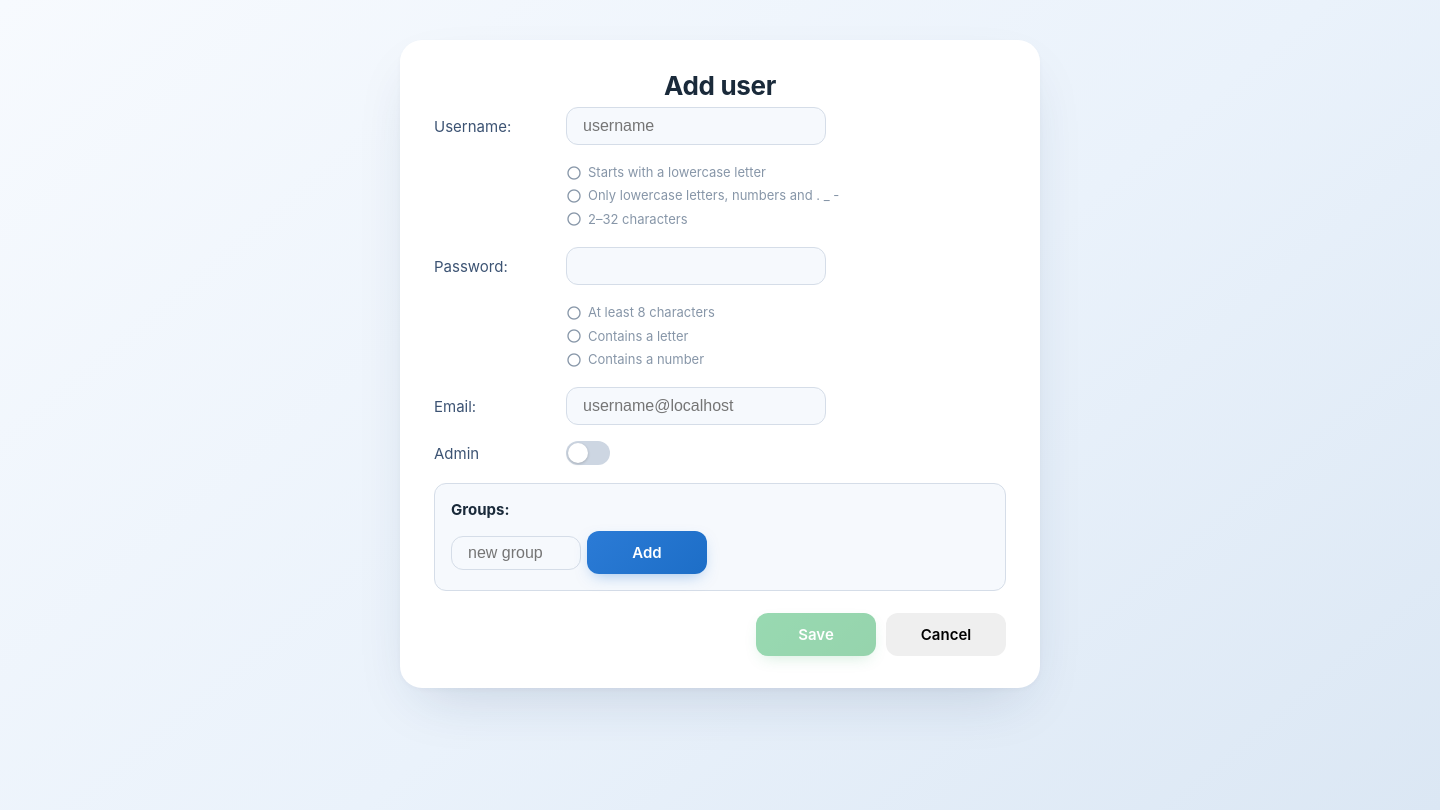
Test: create: inline new group is created and auto-selected
Type "team" into the field with id "new_group" at [516, 553], box [451,536,581,570]
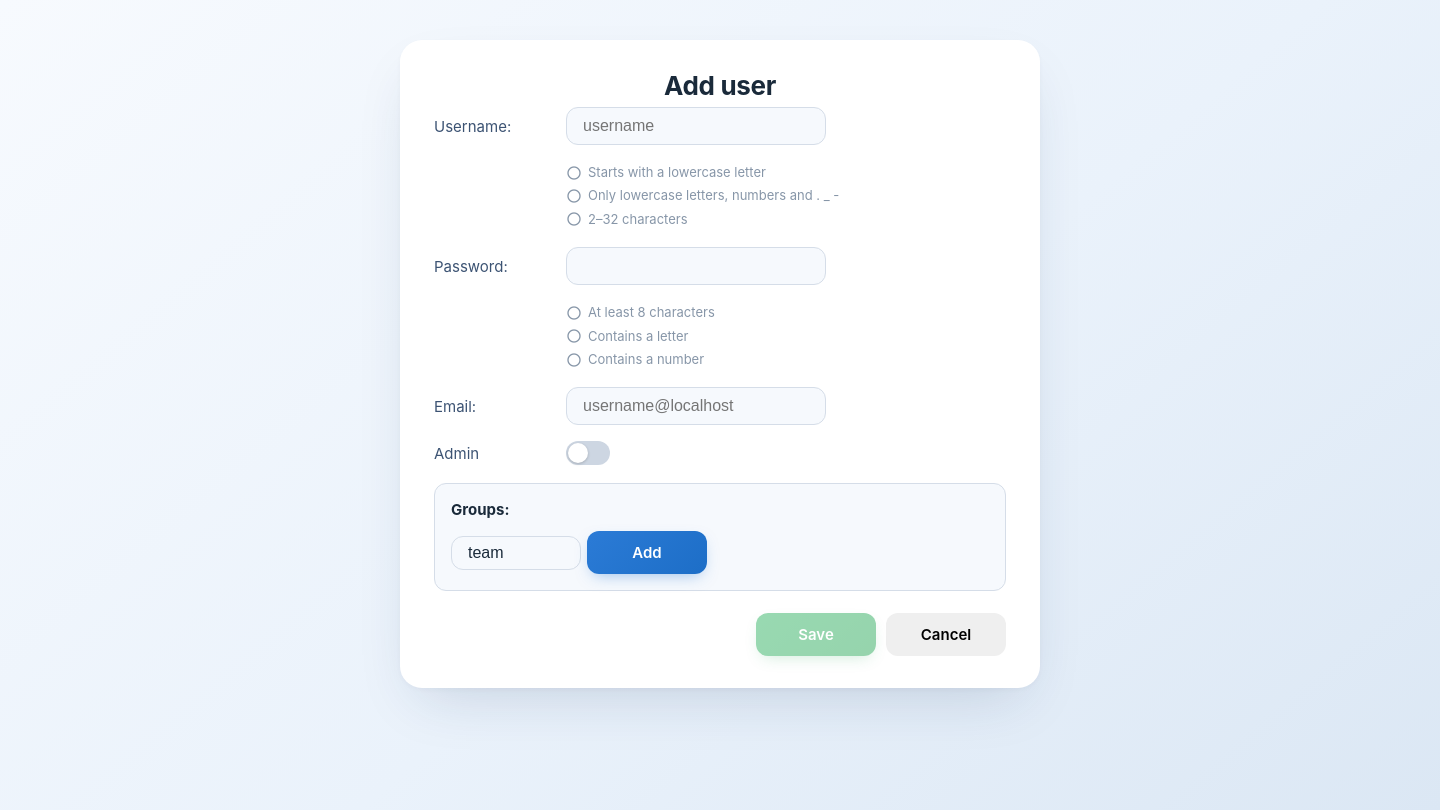
Click the button with test id "group-create" at [647, 553], box [587,531,707,574]
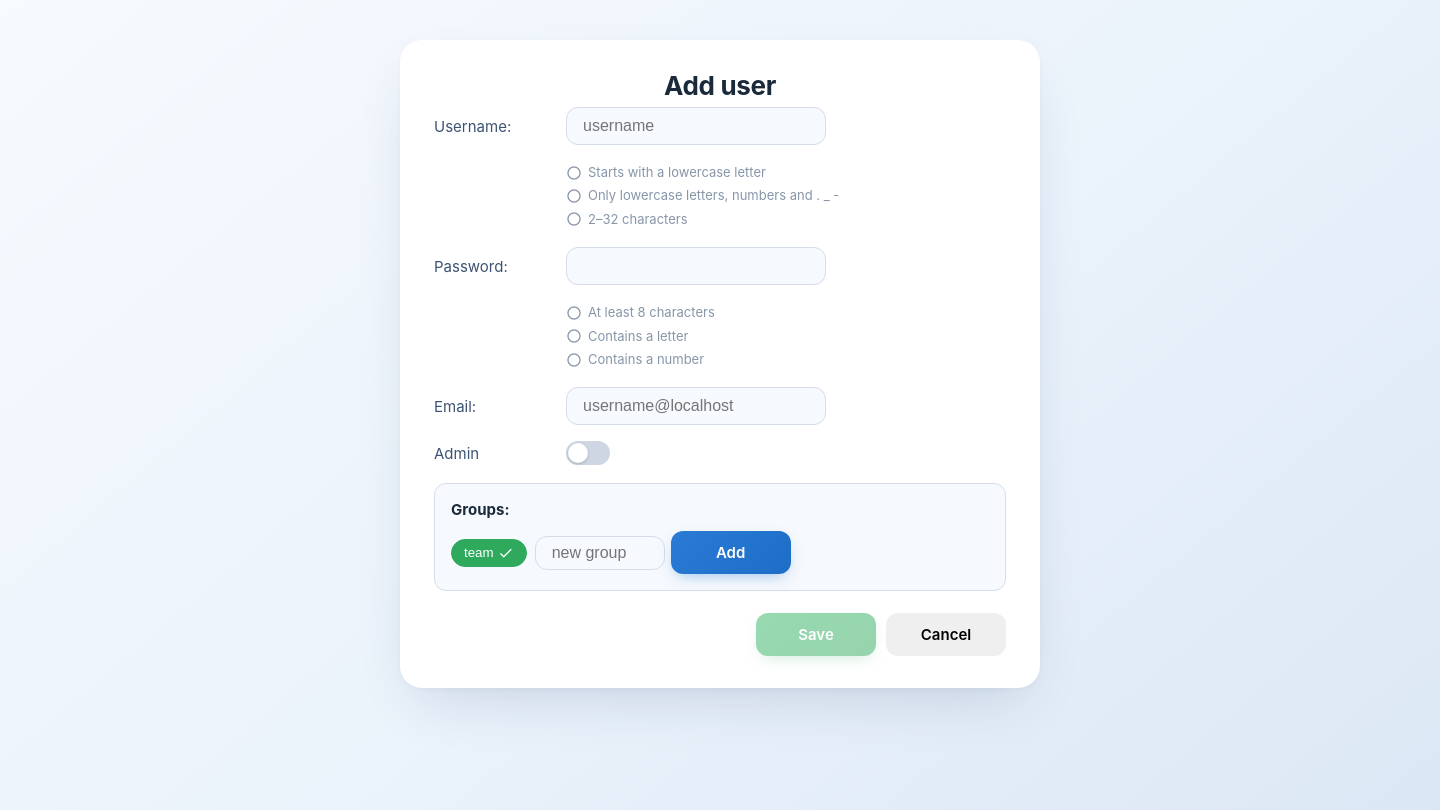
Check: the button with test id "user-group-team" is shown, box [451,539,527,567]
